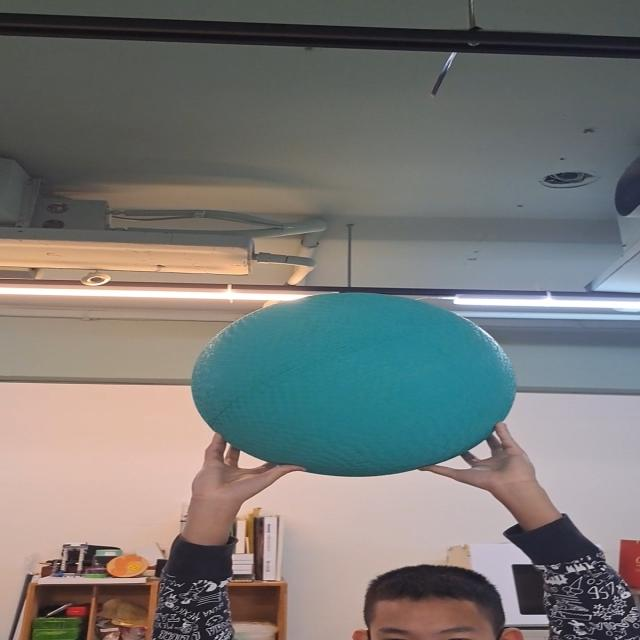ALGAE: (189, 292, 518, 476)
